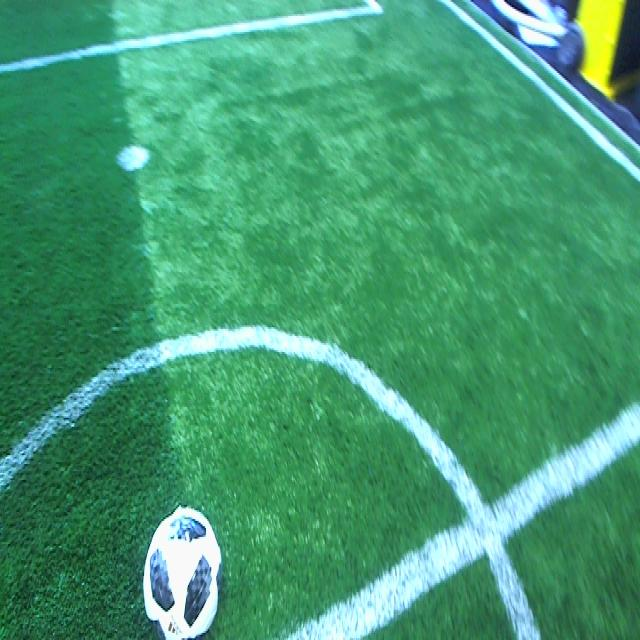ball: (141, 509, 222, 631)
